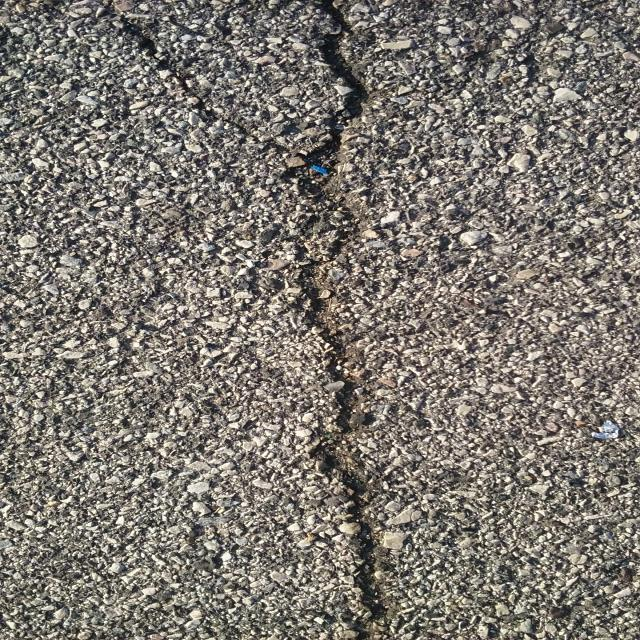Longitudial: (262, 2, 448, 640)
